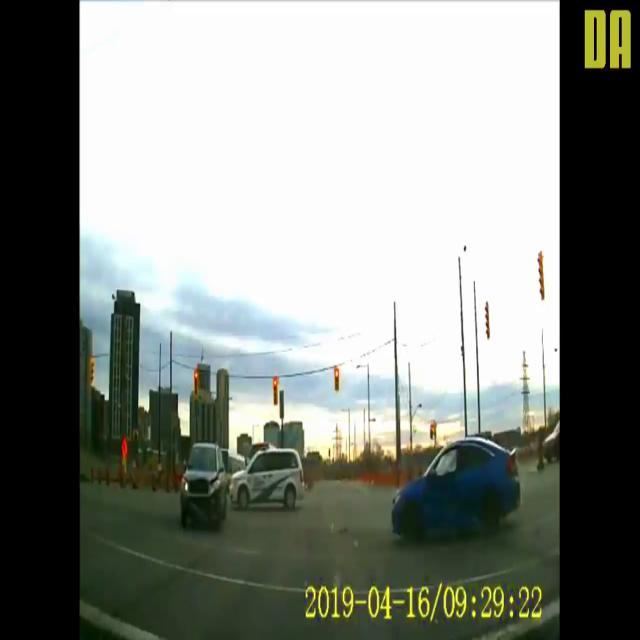multiple_accident: (169, 411, 299, 548)
